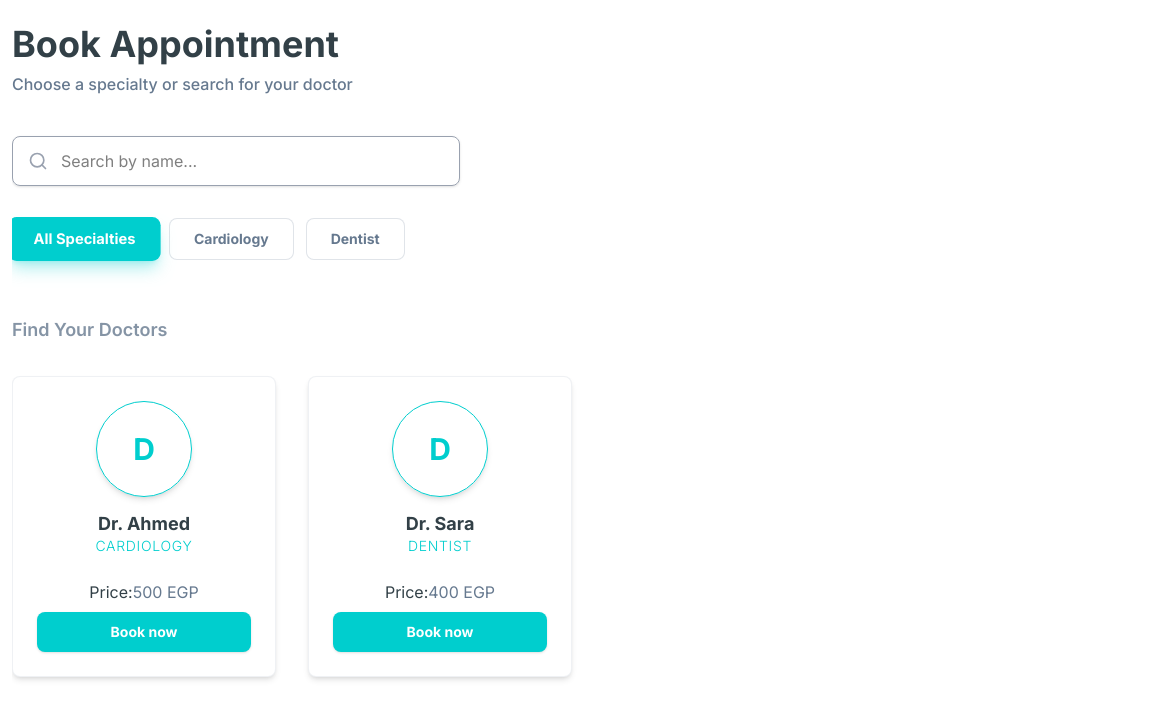
Test: BookAppointmentPage › should show No doctors found in this category when no found any doctor
Type "ali" into the field with placeholder "Search by name...". click: (236, 161)
box: x1=12 y1=136 x2=460 y2=186
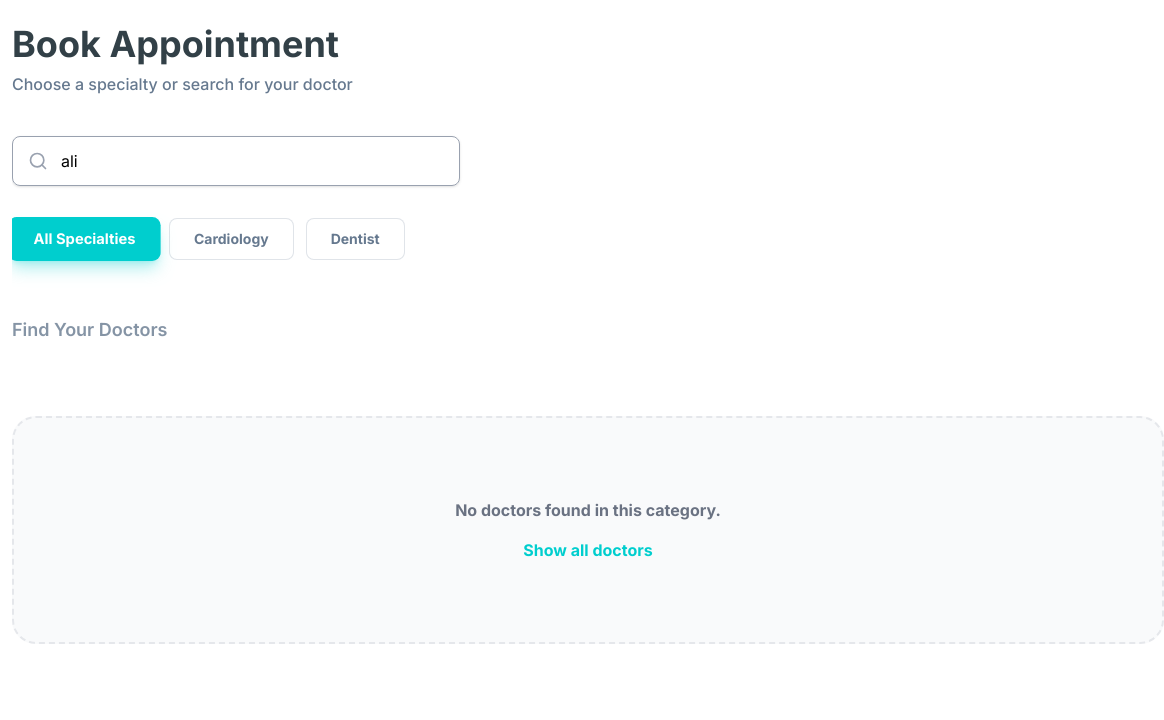
Expected: the text "No doctors found in this category." is shown, x1=455 y1=500 x2=721 y2=520
